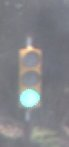Green: (16, 41, 42, 123)
